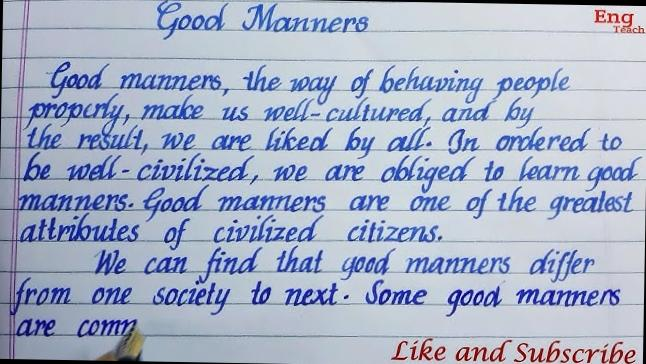text: (16, 175, 636, 231), (8, 273, 622, 328), (21, 143, 645, 195), (23, 115, 624, 166), (18, 86, 536, 144), (43, 56, 573, 110), (89, 238, 598, 292), (18, 207, 444, 257), (153, 0, 370, 45), (390, 333, 638, 364), (14, 314, 140, 341), (590, 7, 635, 28), (612, 24, 646, 36)
